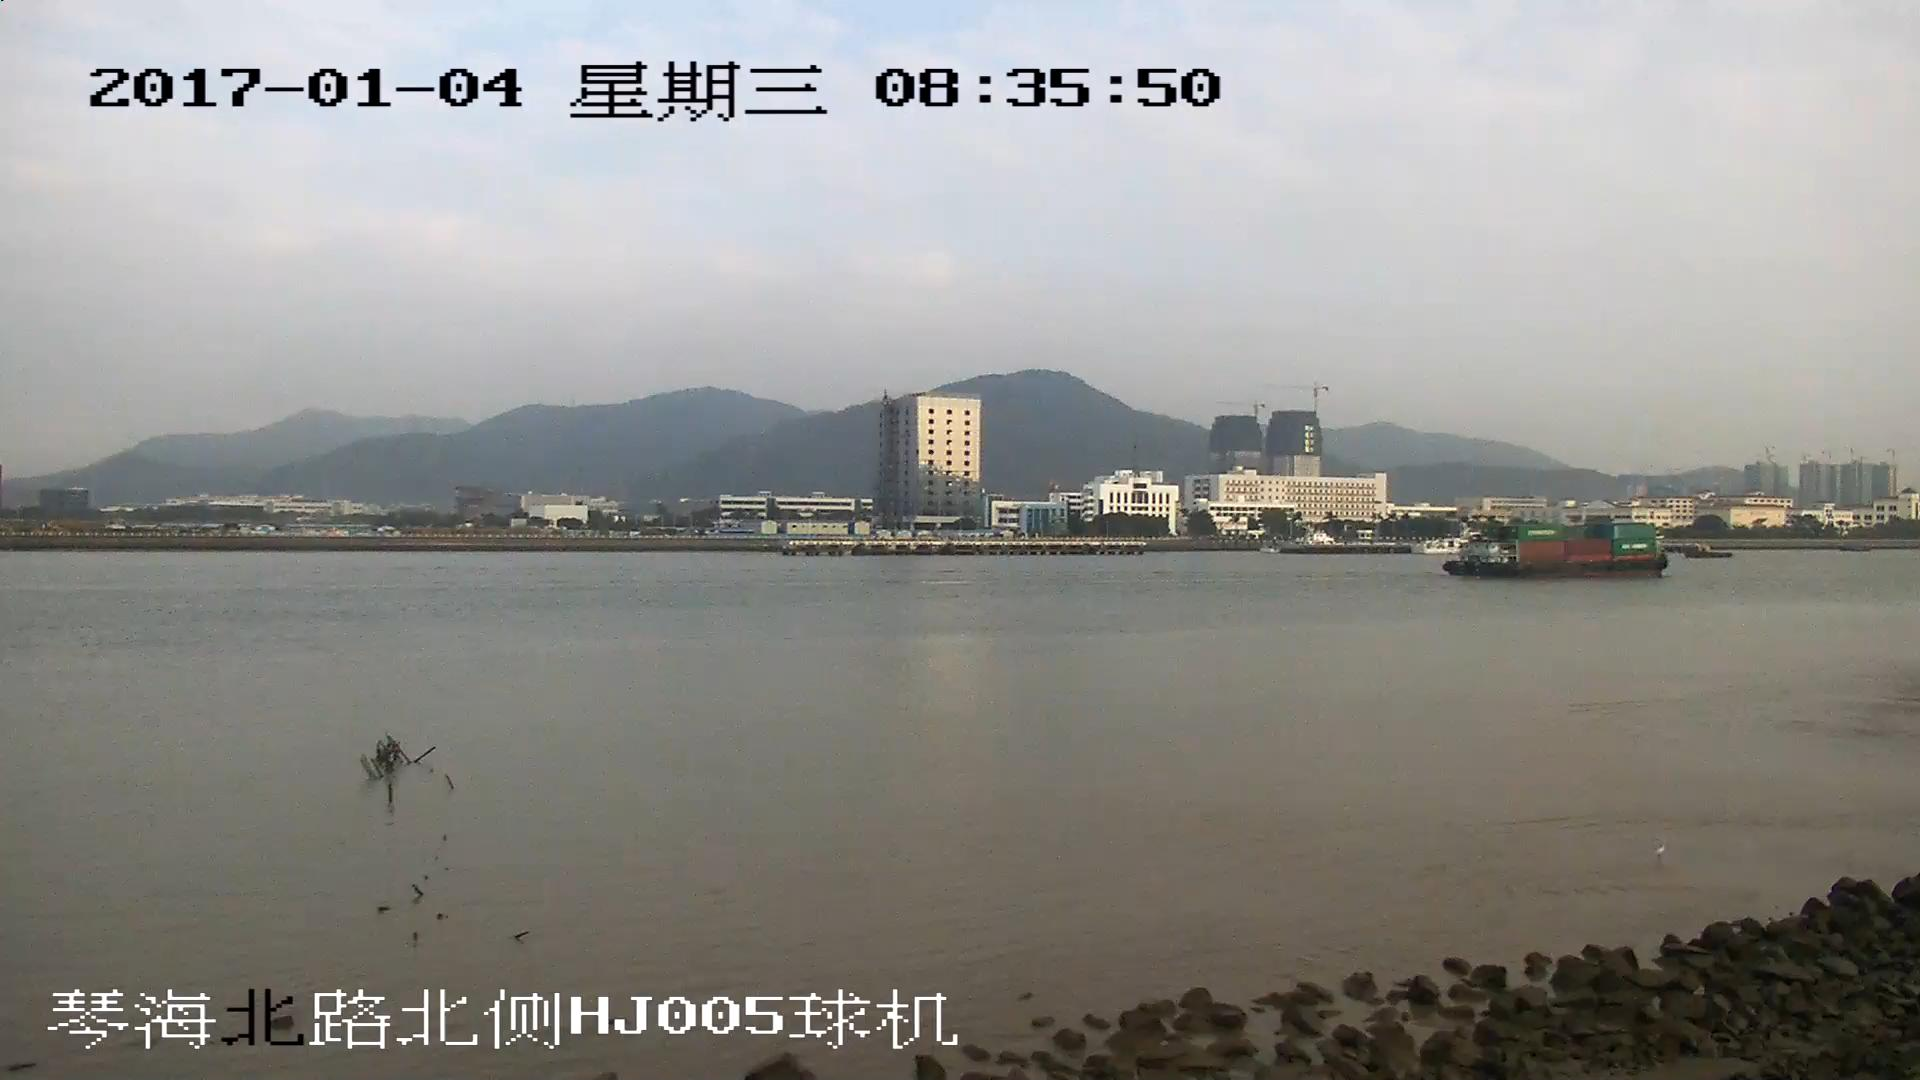container ship: (1443, 521, 1664, 577)
